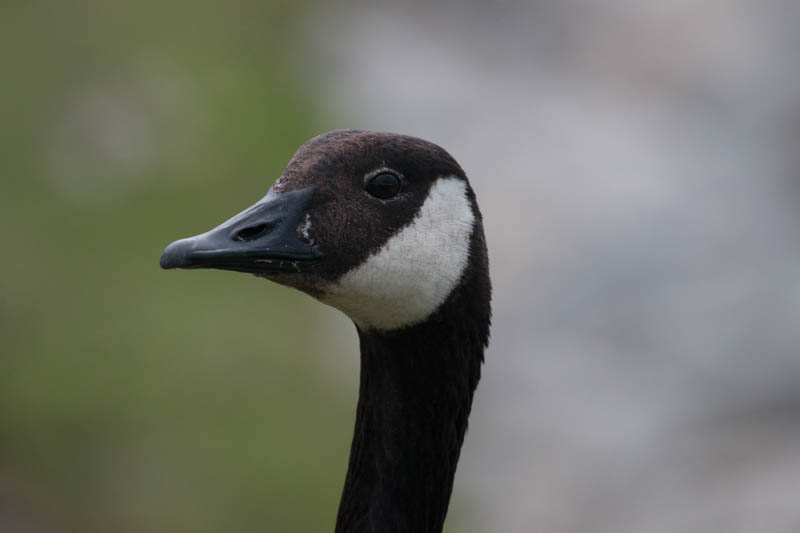goose-head: (161, 129, 492, 338)
